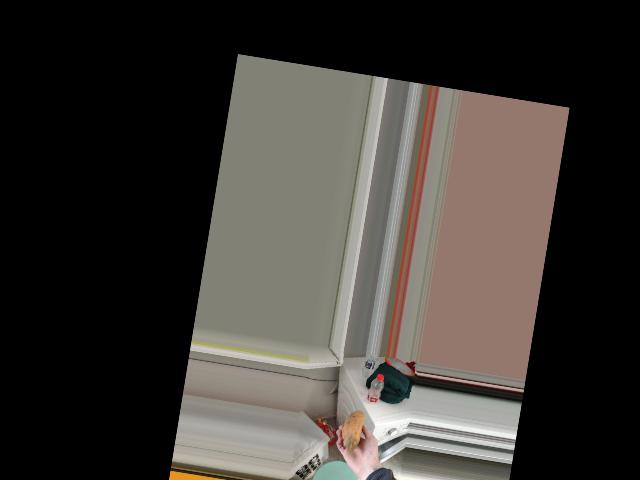sweet_potato: (341, 399, 366, 449)
